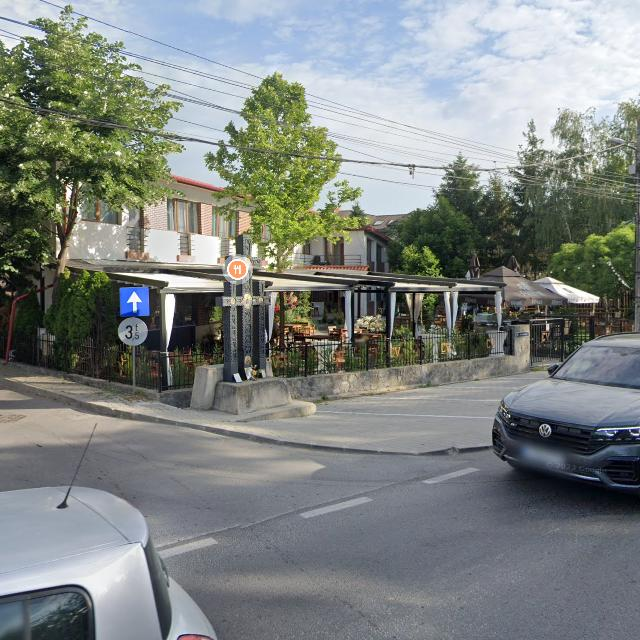forb_weight_over_3.5t: (117, 316, 149, 346)
info_one_way_traffic: (118, 286, 150, 317)
